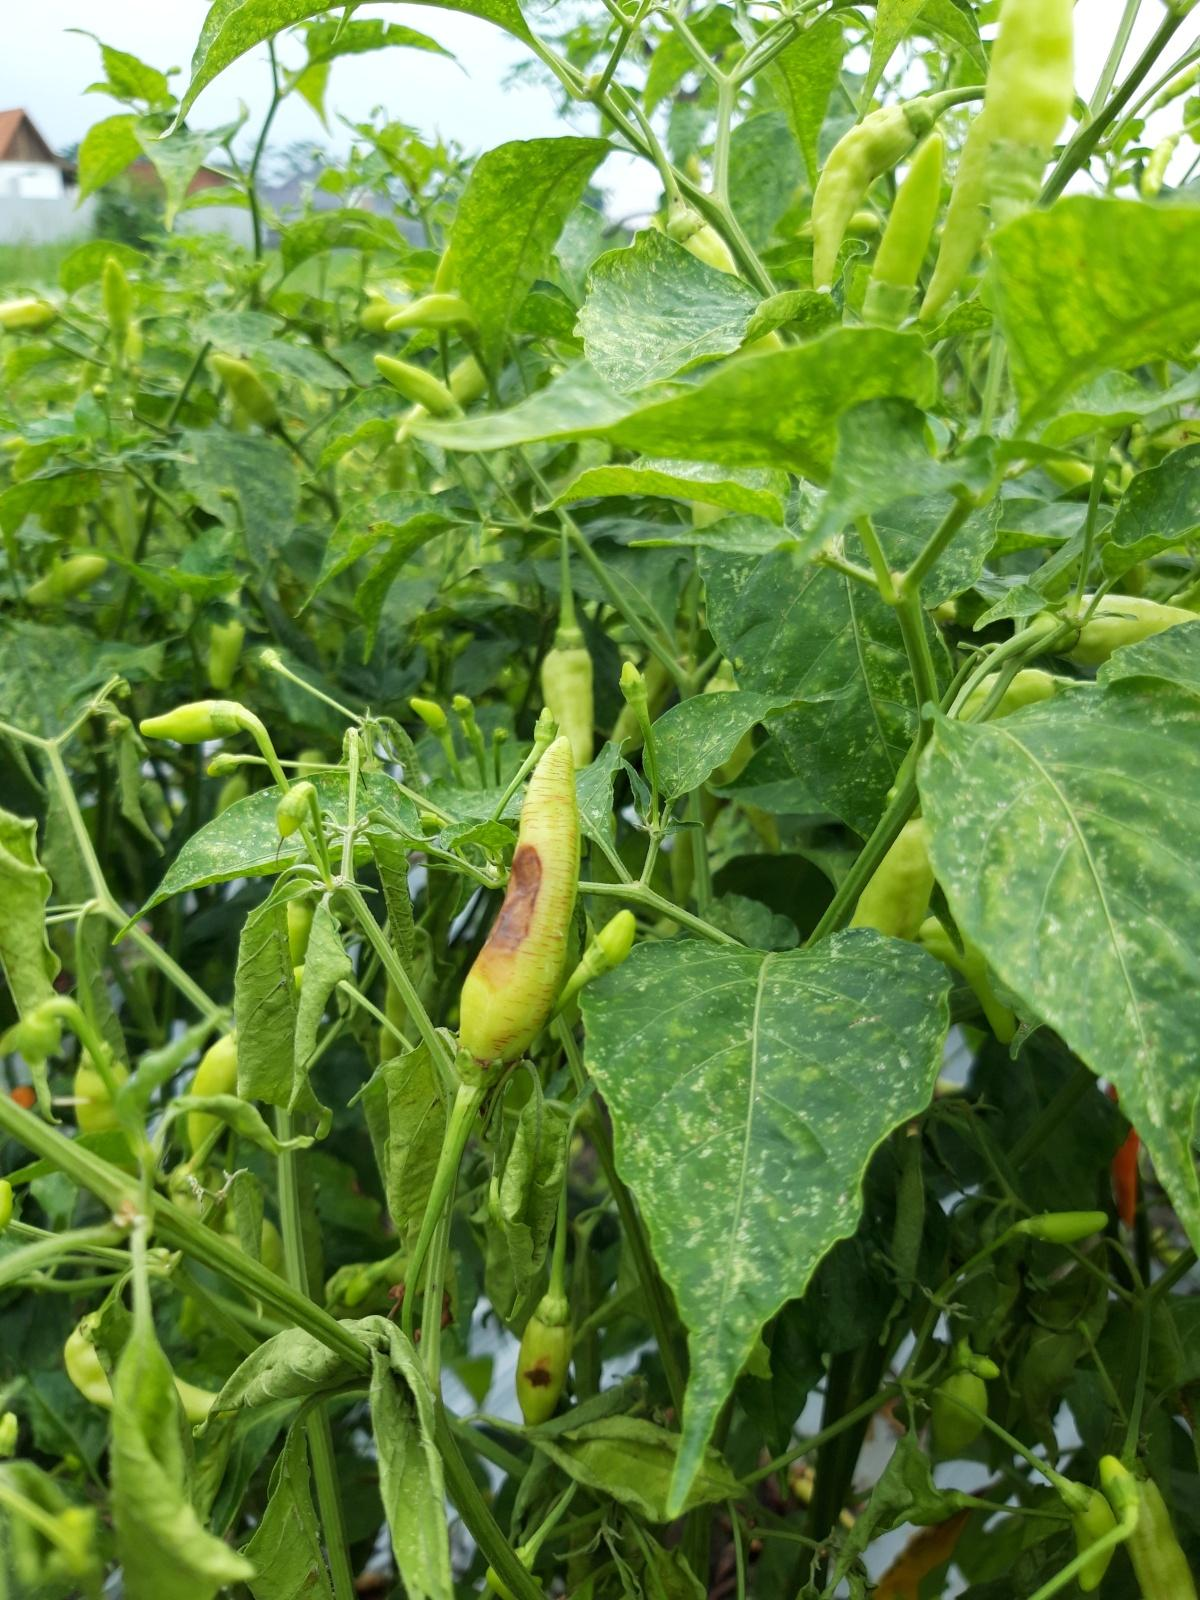cabai_normal: (811, 97, 934, 294), (983, 0, 1075, 197), (861, 132, 943, 325), (1116, 1455, 1197, 1600), (1040, 595, 1200, 663), (541, 630, 594, 769), (205, 354, 286, 438), (1063, 1479, 1116, 1592), (373, 353, 465, 417), (384, 294, 483, 346), (139, 699, 242, 745), (582, 908, 635, 975), (1022, 1211, 1109, 1241), (408, 698, 449, 737), (966, 1353, 1001, 1380)
lalat_buah: (456, 734, 582, 1089), (516, 1296, 574, 1426)
